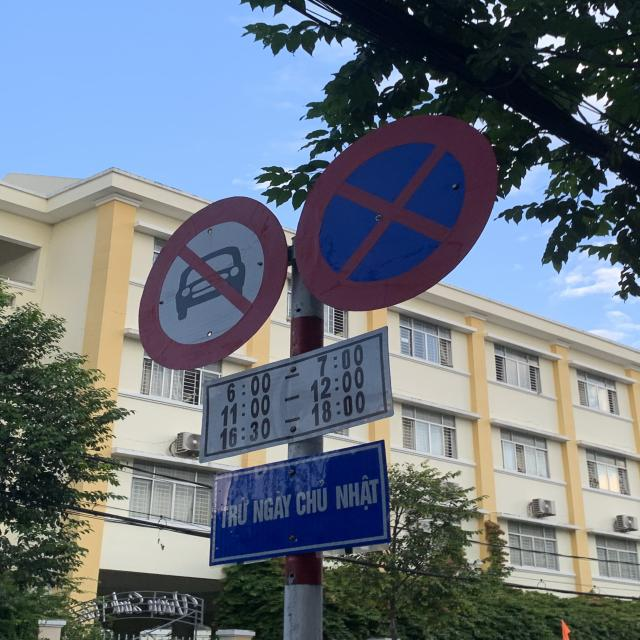Cam_Dung_Va_Dau_Xe: (290, 113, 500, 312)
Cam_O_To: (136, 193, 290, 368)
